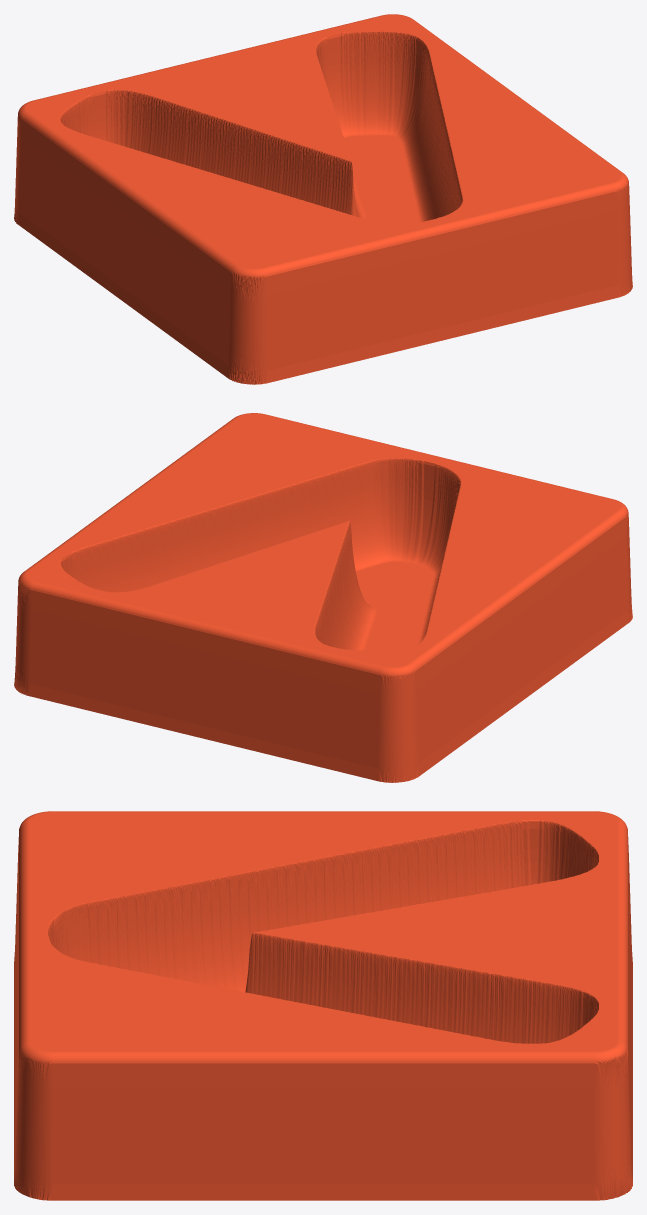
File: mold.glb
The picture shows the model from 3 angles, top to bottom: view 1: azimuth 30°, elevation 25°; view 2: azimuth 150°, elevation 25°; view 3: azimuth 270°, elevation 25°; orthographic projection. The views are drawn at different scales.
Parts seen in each view (by area): view 1: geometry_0; view 2: geometry_0; view 3: geometry_0.
Boxes of the visible parts, x1,y1,x2,y2 form: geometry_0: (14,14,632,384); geometry_0: (14,413,632,782); geometry_0: (14,811,632,1200).
Size of the model in its own units: 0.1385 by 0.0365 by 0.1435.
